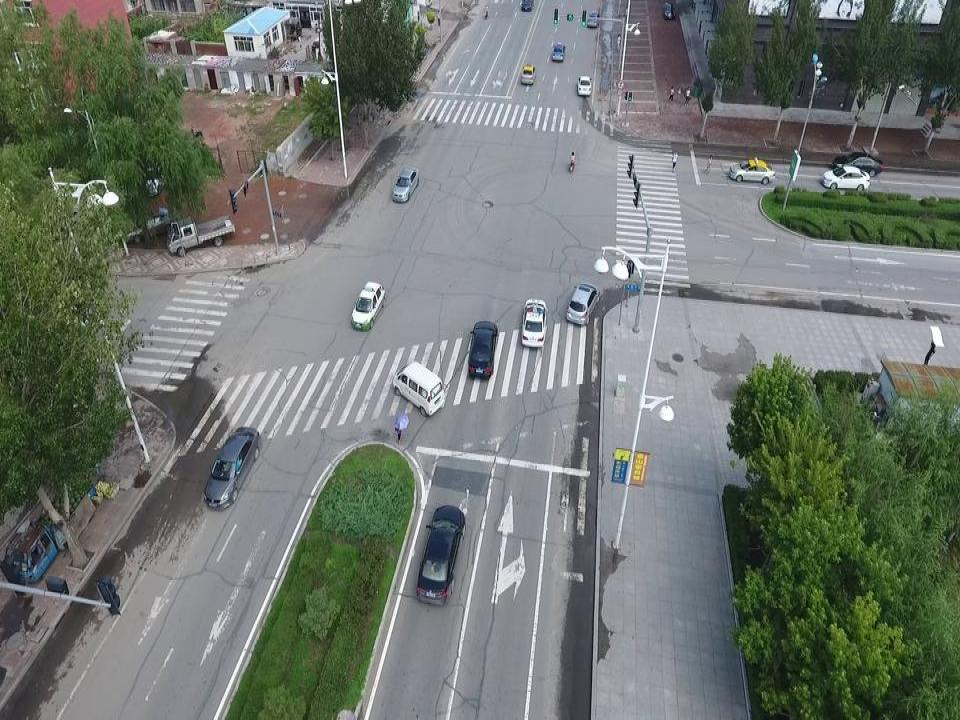car: (416, 502, 464, 602), (202, 427, 260, 509), (116, 209, 168, 247), (467, 320, 498, 380), (351, 281, 385, 331), (566, 281, 600, 324), (832, 152, 883, 179), (821, 164, 871, 191), (728, 158, 776, 185), (521, 299, 547, 348), (144, 152, 167, 196), (392, 167, 418, 201), (521, 64, 536, 85), (552, 42, 566, 62), (577, 75, 590, 96), (662, 1, 676, 19), (586, 10, 601, 26), (521, 0, 533, 12)
truck: (166, 215, 234, 256)
van: (392, 361, 445, 416)
